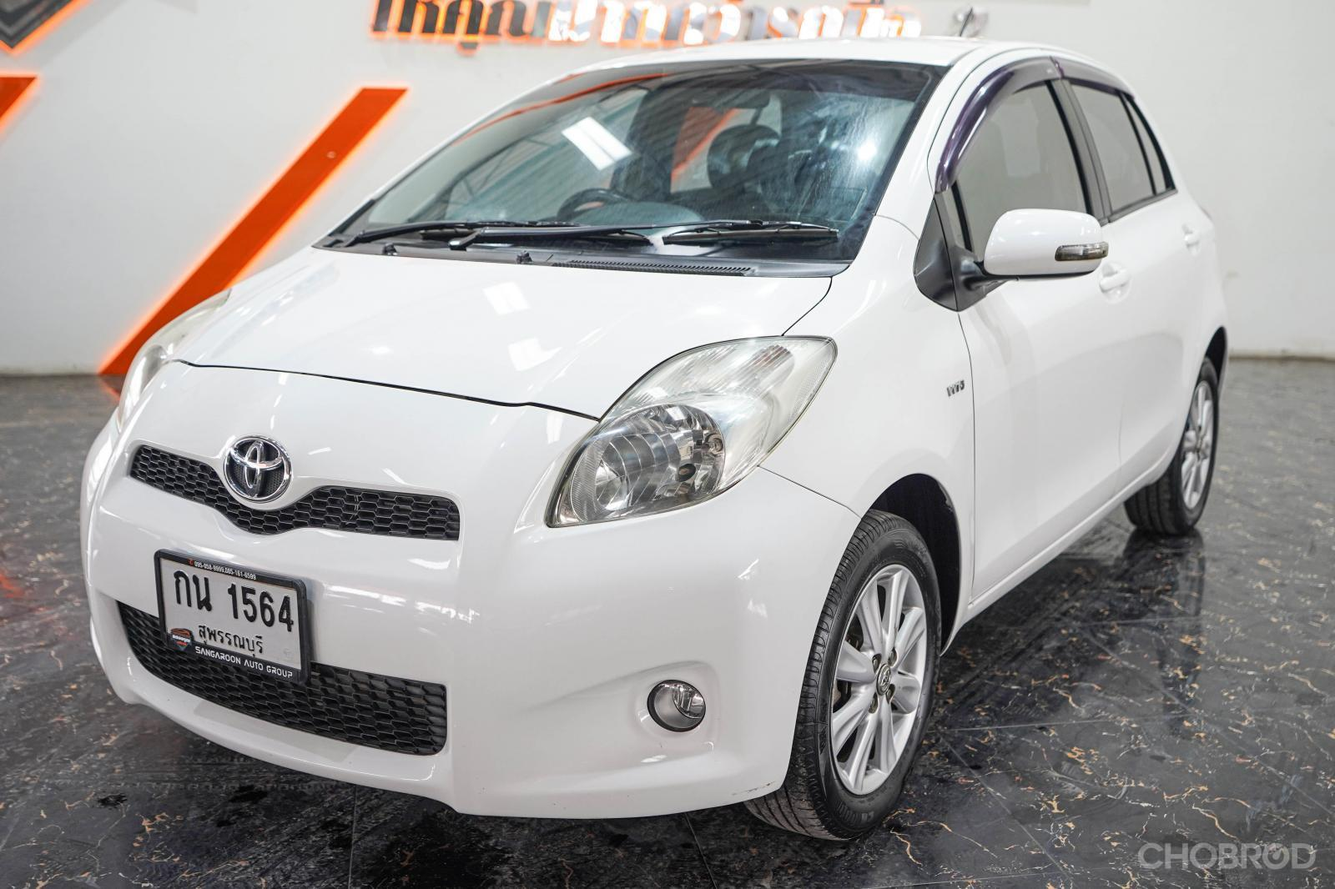license-plate: (151, 545, 316, 689)
